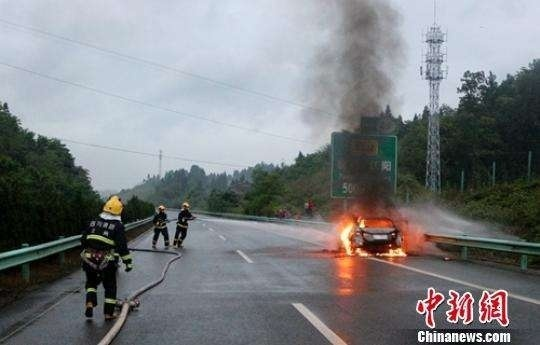fire: (335, 212, 409, 259)
